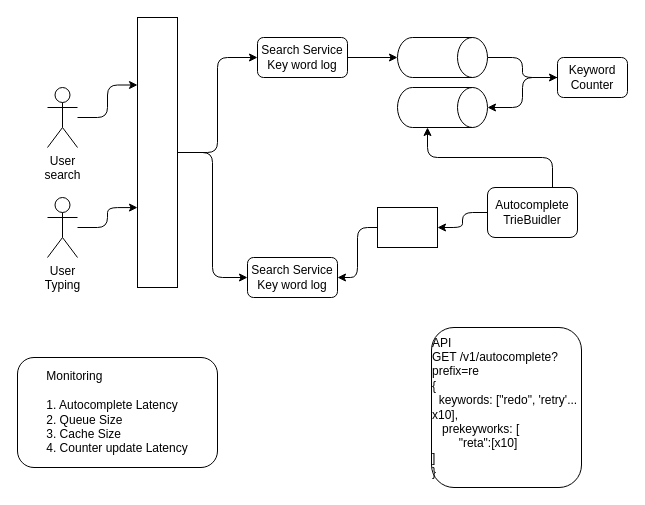
This 645x505 diagram has some shape labels left out. The centre of each missing label's shape, as x and y in pixels:
"Kafka Queue" goes at (x=442, y=57).
"Kafka Table" goes at (x=442, y=107).
"LB" goes at (x=157, y=152).
"Redis SortedSet Trie Tree" goes at (x=407, y=227).
